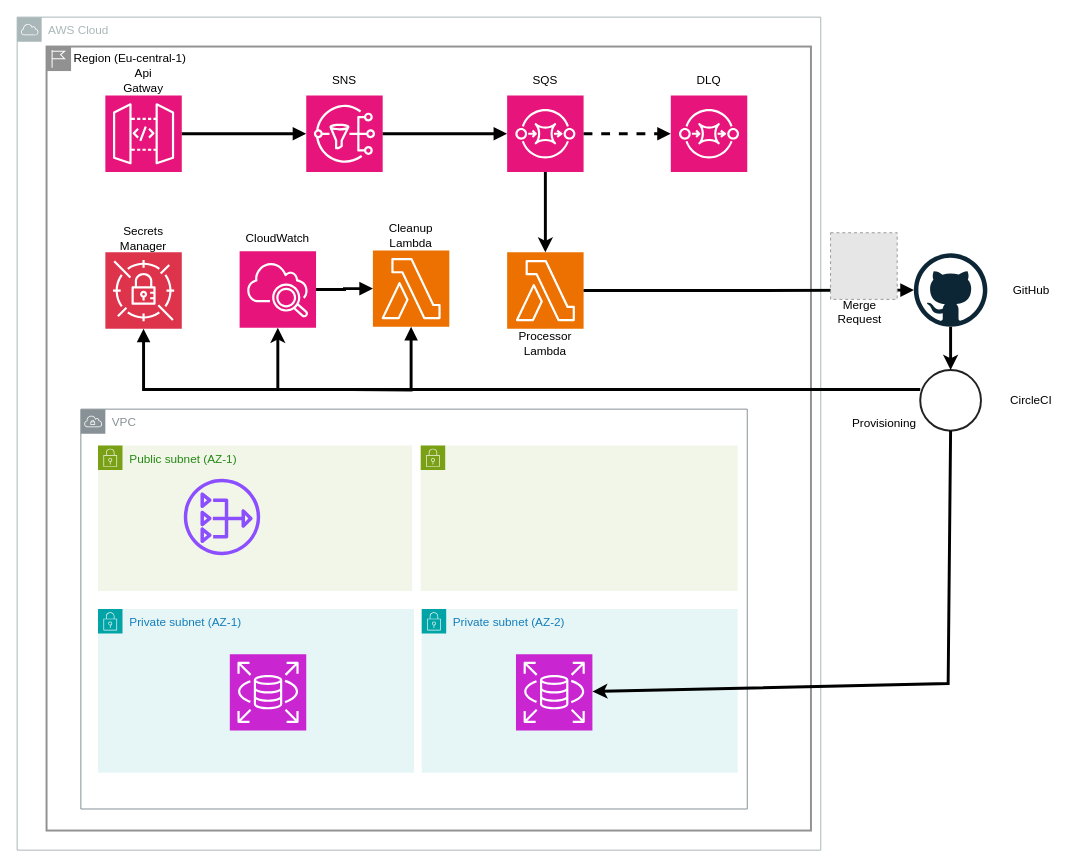
The diagram is 1078 pixels wide and 867 high, and some of its shapes have lost their labels. Grey dashed boxes stand in for pictures. Each missing label, with the centre of its shape:
"Nat Gatway" goes at point 221,516.
"Public subnet (AZ-2)" goes at point 579,518.
"RDS" goes at point 553,692.
